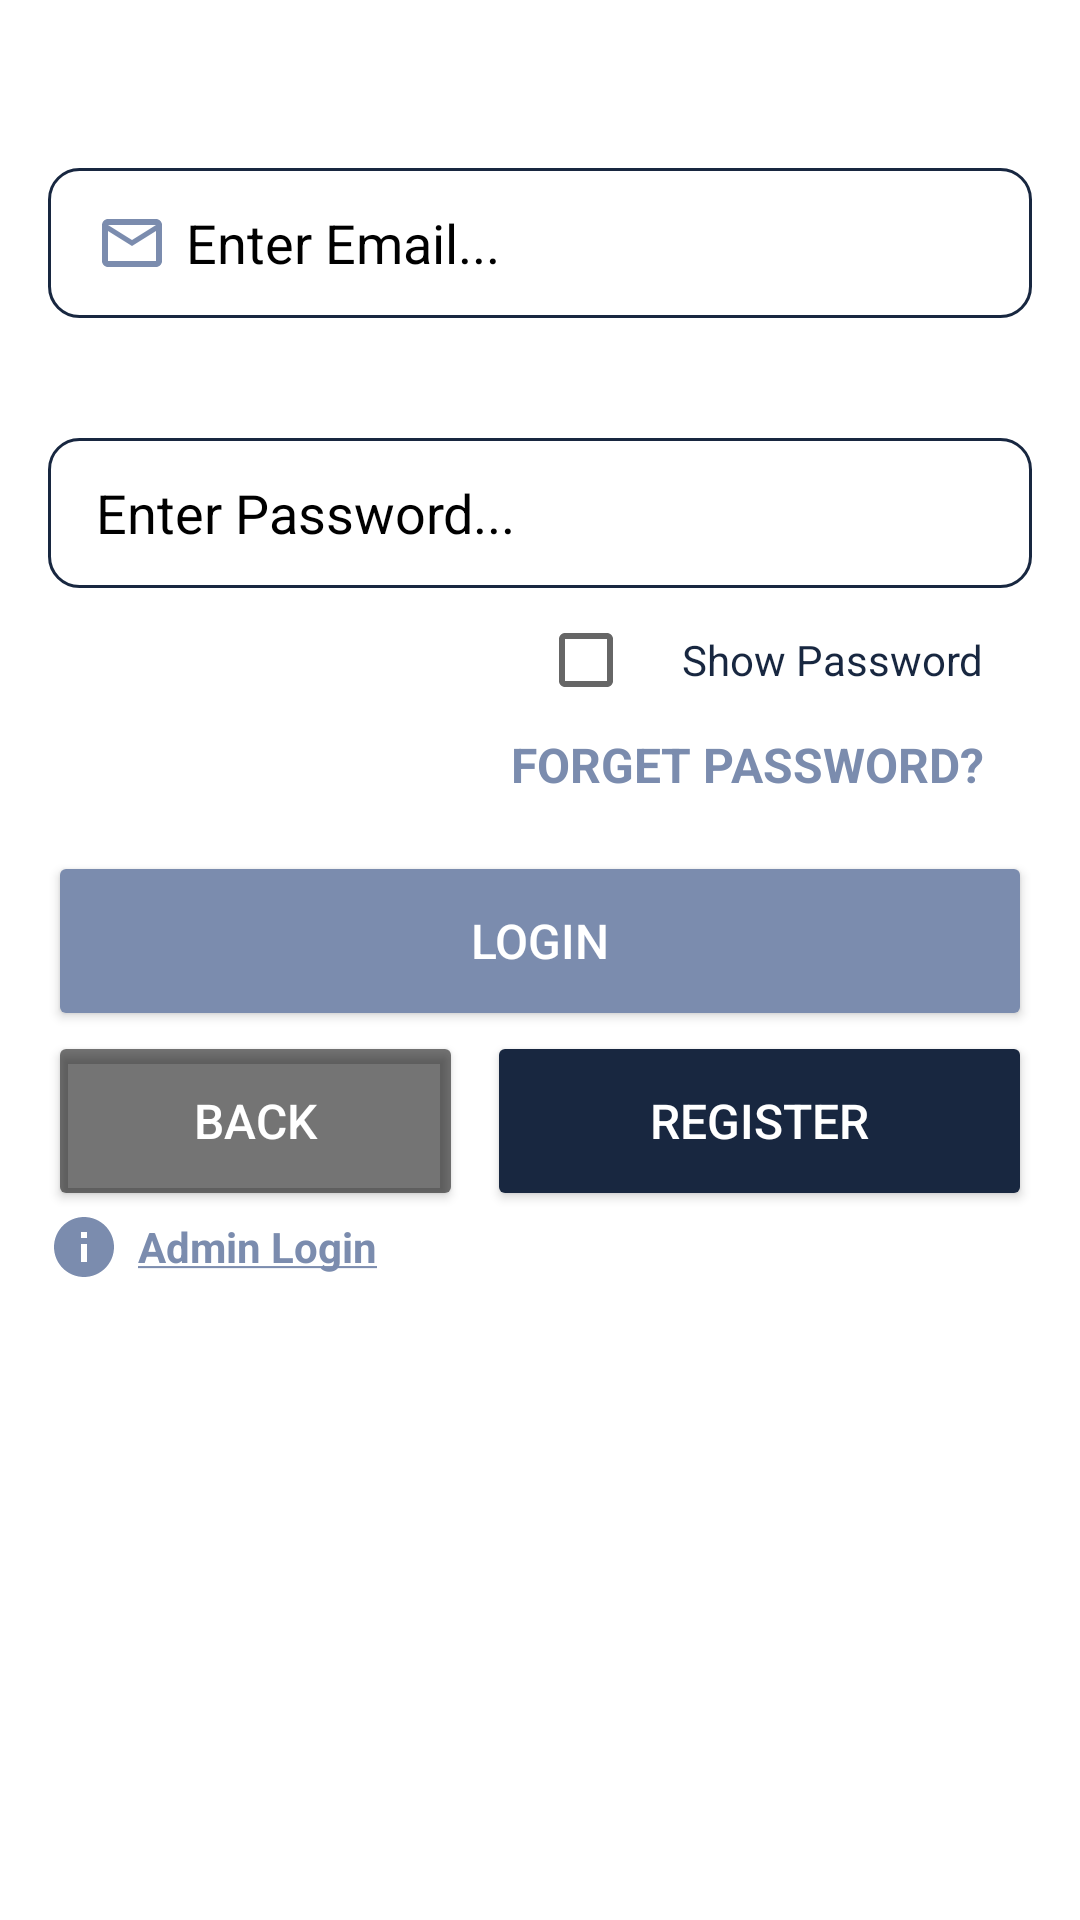

Icons on this 1080x1920 Android screen, each with its box as (left=x1, top=y1, right=x2, bottom=y2):
info: (left=54, top=1217, right=114, bottom=1277)
